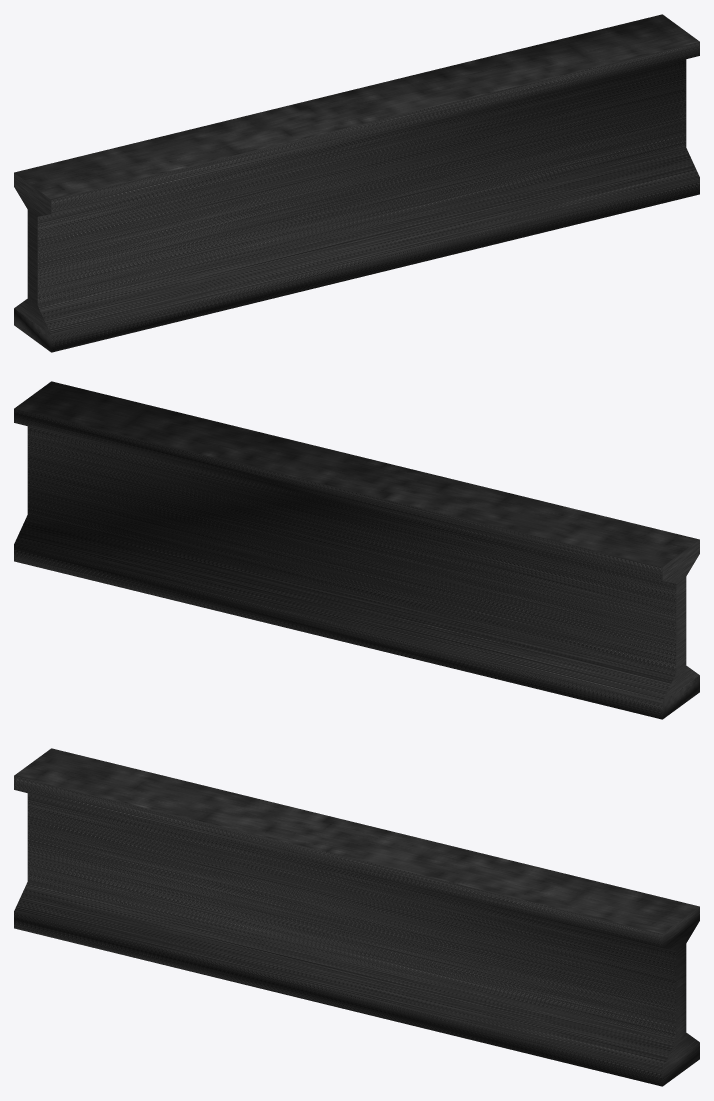
File: Girder.fbx
3 renders of one model, top to bottom at view 1: azimuth 30°, elevation 25°; view 2: azimuth 150°, elevation 25°; view 3: azimuth 330°, elevation 25°, orthographic.
Visible parts, largest first — view 1: girder; view 2: girder; view 3: girder.
Part boxes in pixels (x1,y1,x2,y2): girder: (14, 14, 699, 352); girder: (14, 381, 699, 719); girder: (14, 748, 699, 1086).
Size of the model in its own units: 20 by 4.5 by 2.
1 material, 1 textured.
